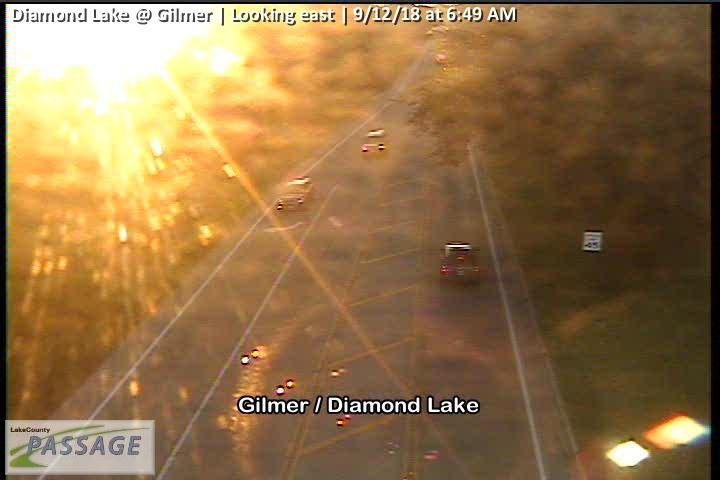SUV: (440, 242, 479, 282), (276, 178, 313, 214)
